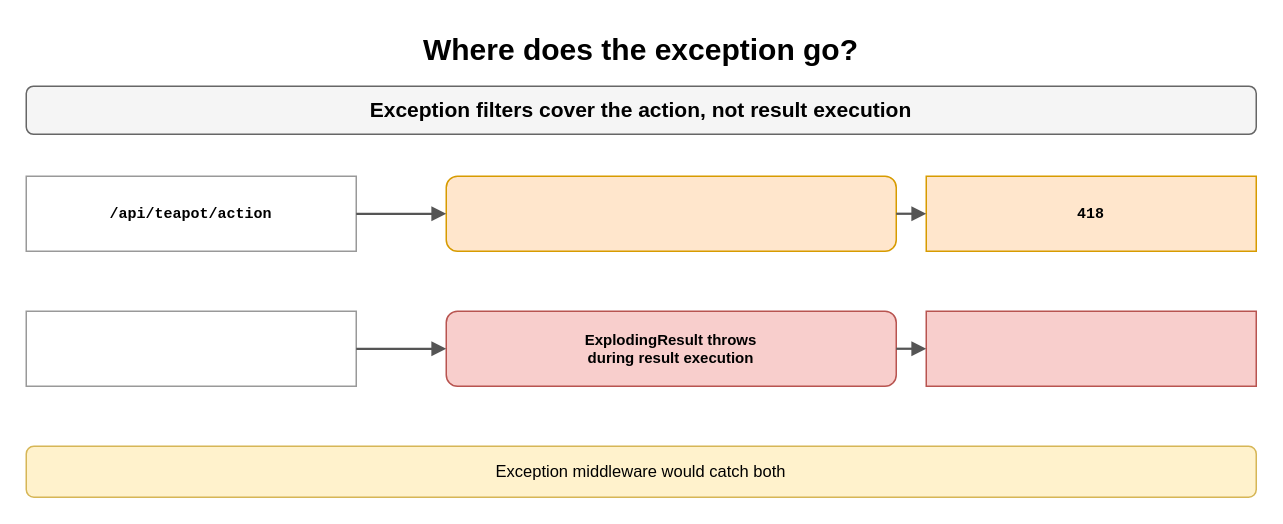
Some shapes in this 1283 by 524 pixel diagram are drawn without their labels. Each missing label, with the centre of its shape:
/api/teapot/result: pixel 190 348
500 · default handling: pixel 1090 348
action throws [Teapot] covers it: pixel 670 213
